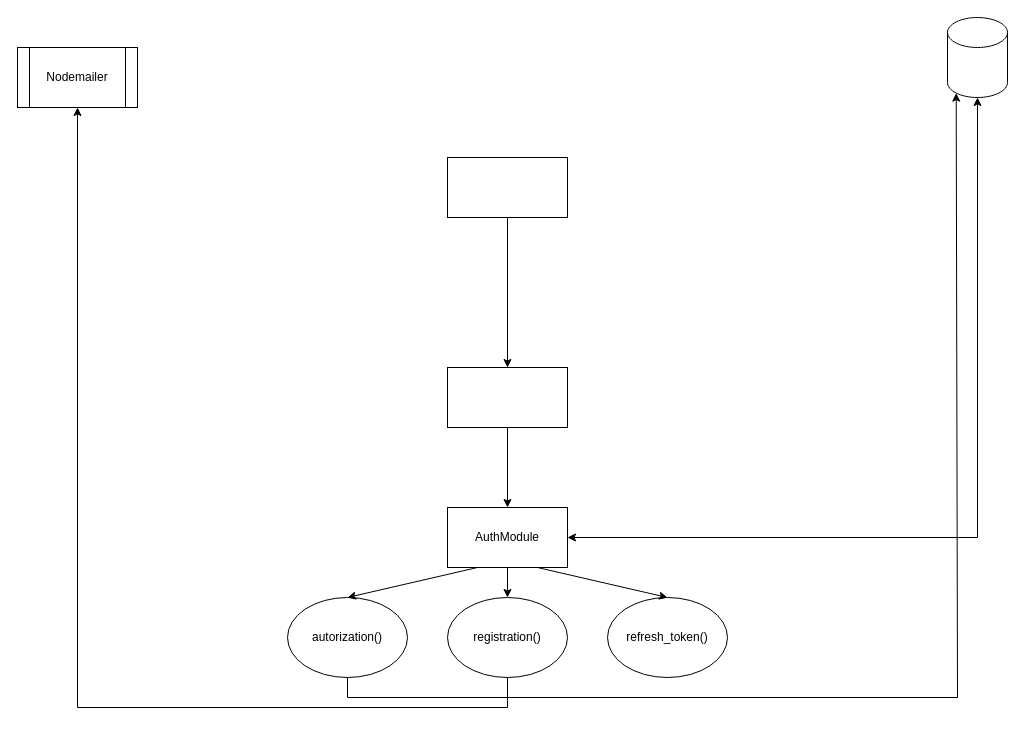
This 1025x733 diagram has some shape labels left out. Each missing label, with the centre of its shape:
"AppModule app.module.ts" belongs at pixel 507 397.
"main start()" belongs at pixel 507 187.
"Mongo" belongs at pixel 977 57.
